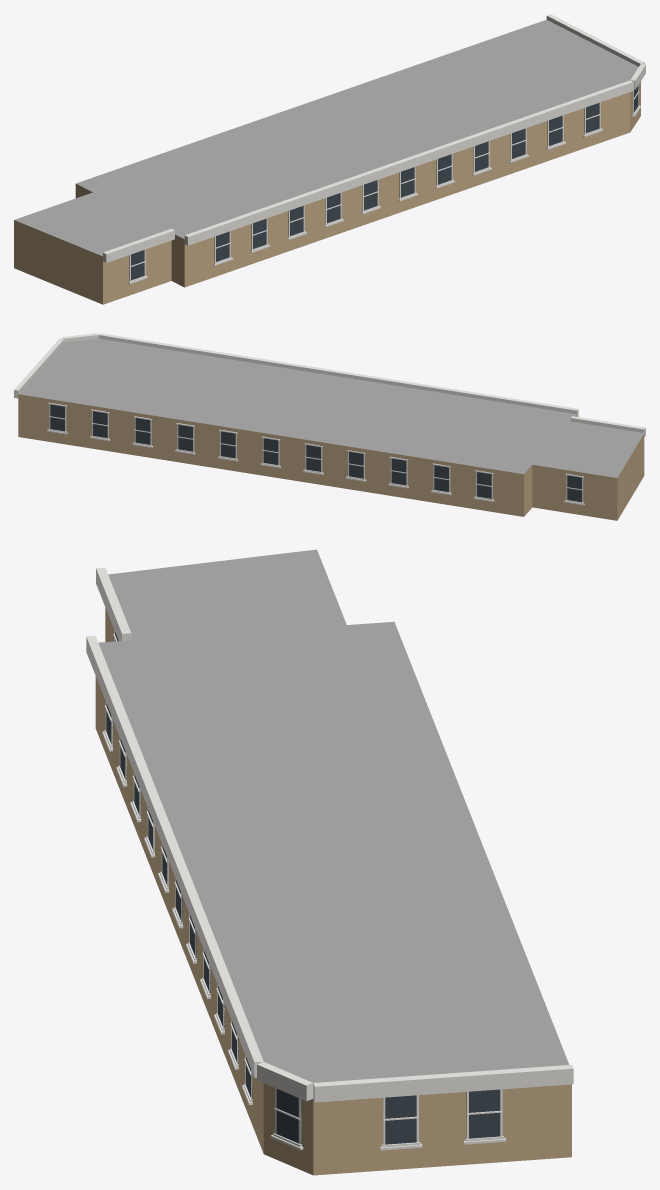
File: level-4.glb
The picture shows the model from 3 angles, top to bottom: view 1: azimuth 30°, elevation 25°; view 2: azimuth 150°, elevation 25°; view 3: azimuth 270°, elevation 25°; orthographic projection. The views are drawn at different scales.
Visible parts, largest first — view 1: building, facade; view 2: building, facade; view 3: building, facade.
Boxes of the visible parts, x1=… form: building: x1=14, y1=19, x2=640, y2=304; facade: x1=103, y1=14, x2=645, y2=284; building: x1=18, y1=338, x2=644, y2=520; facade: x1=14, y1=333, x2=645, y2=505; building: x1=95, y1=549, x2=571, y2=1175; facade: x1=86, y1=567, x2=573, y2=1150.
Size of the model in its own units: 41.01 by 3.25 by 15.51.
